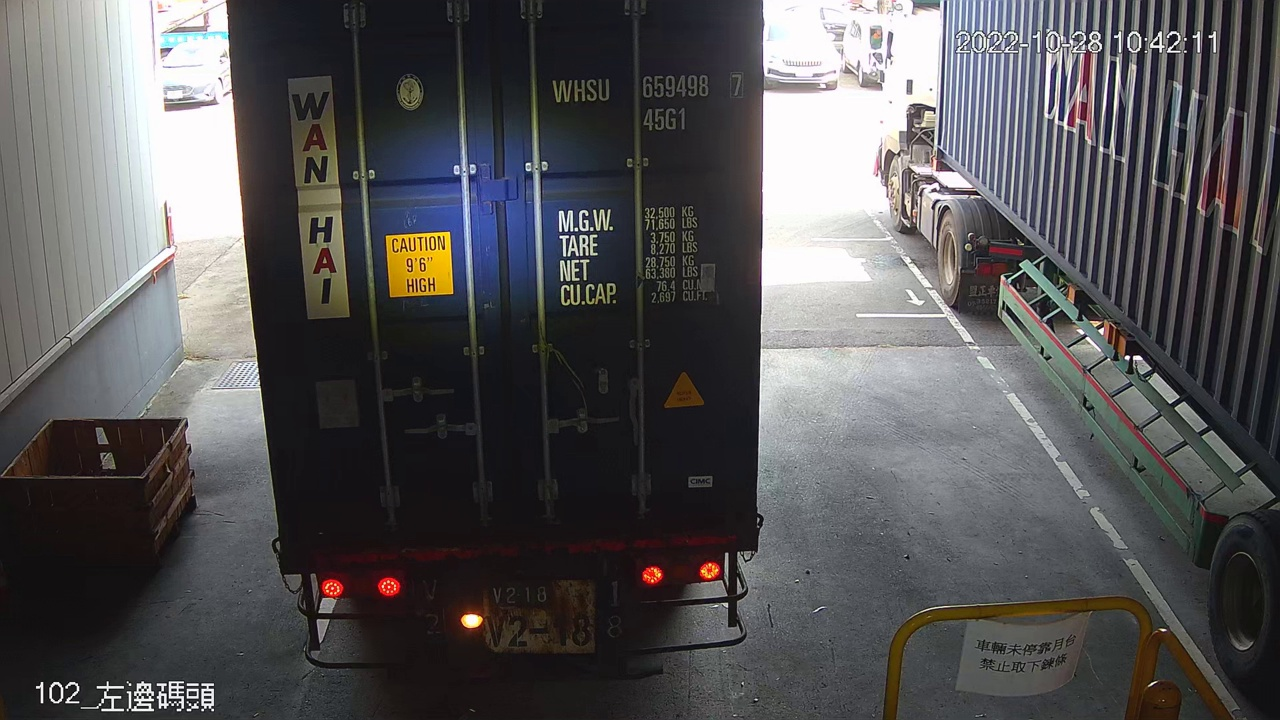container: (545, 68, 748, 136)
